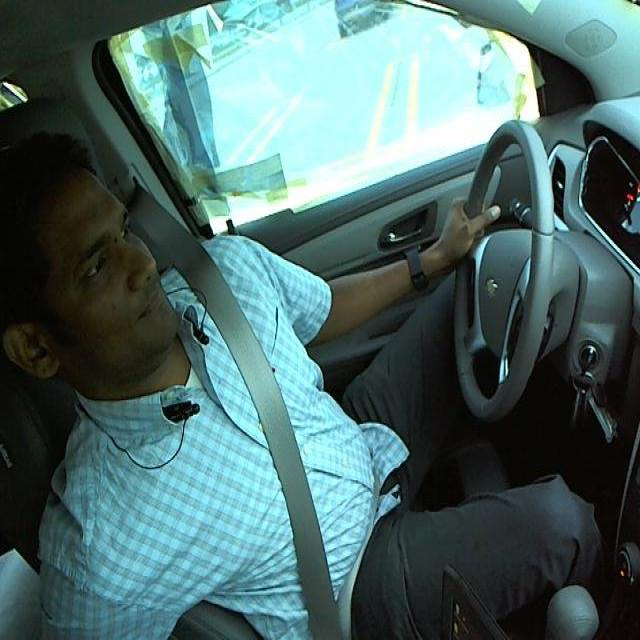seatbelt: (194, 288, 391, 623)
